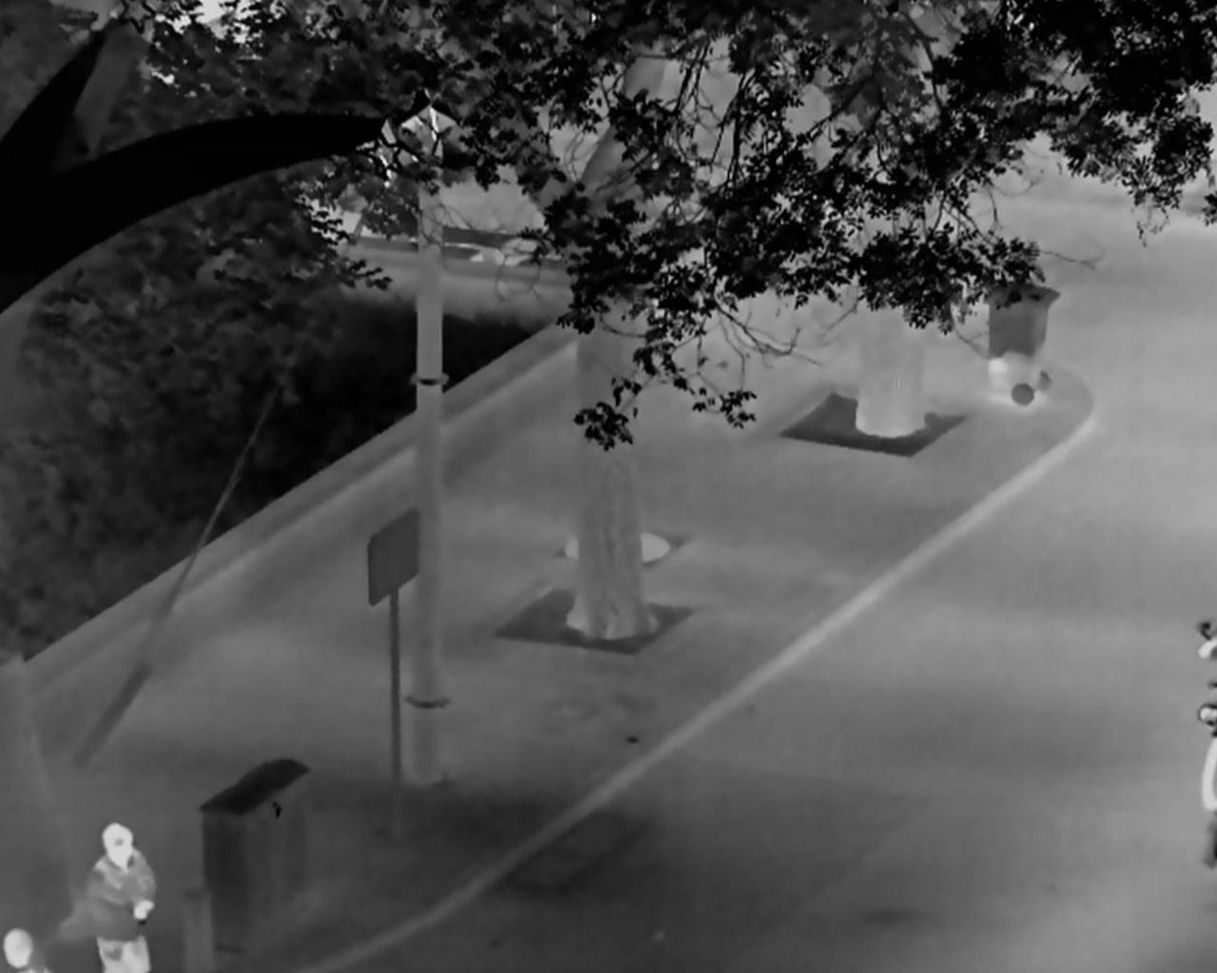person: (81, 821, 155, 973)
